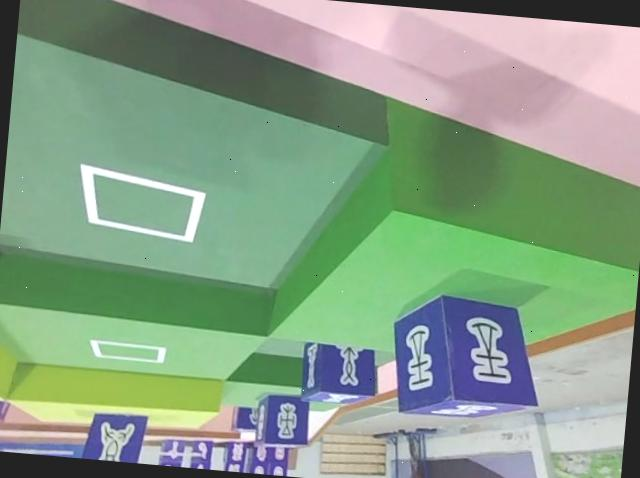R2 Real Blue: (386, 288, 545, 425), (301, 337, 383, 405), (81, 411, 147, 464), (254, 390, 313, 449)
